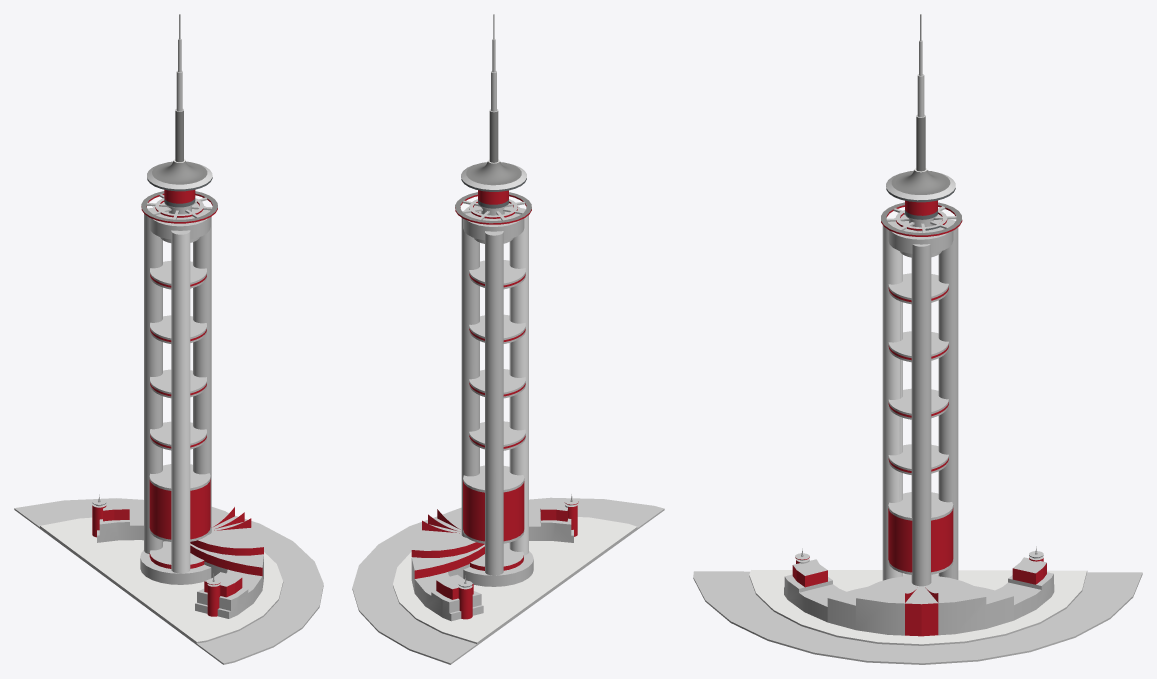
3 renders of one model, left to right at view 1: azimuth 30°, elevation 25°; view 2: azimuth 150°, elevation 25°; view 3: azimuth 270°, elevation 25°, orthographic. The views are drawn at different scales.
Parts seen in each view (by area): view 1: gedung 11.001; view 2: gedung 11.001; view 3: gedung 11.001.
Part boxes in pixels (<box>): gedung 11.001: <box>14,14,323,664</box>; gedung 11.001: <box>352,14,664,664</box>; gedung 11.001: <box>693,14,1142,664</box>.
Size of the model in its own units: 3.91 by 11.74 by 8.09.
